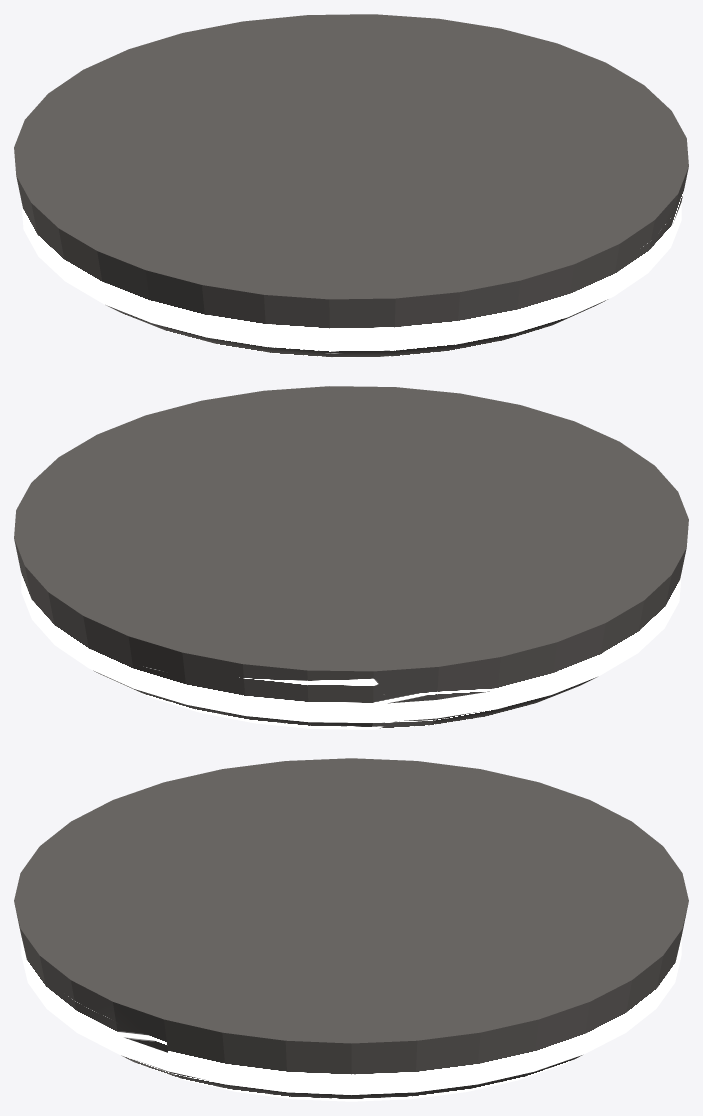
File: CeilingLightDiffuser.fbx
3 renders of one model, top to bottom at view 1: azimuth 30°, elevation 25°; view 2: azimuth 150°, elevation 25°; view 3: azimuth 270°, elevation 25°, orthographic.
Parts seen in each view (by area): view 1: defaultMaterial.003; view 2: defaultMaterial.003; view 3: defaultMaterial.003.
Part boxes in pixels (left/top/right/bottom): defaultMaterial.003: left=14, top=14, right=688, bottom=357; defaultMaterial.003: left=14, top=386, right=688, bottom=729; defaultMaterial.003: left=14, top=758, right=688, bottom=1101.
Size of the model in its own units: 11.51 by 1.39 by 11.51.
1 material, 1 textured.
